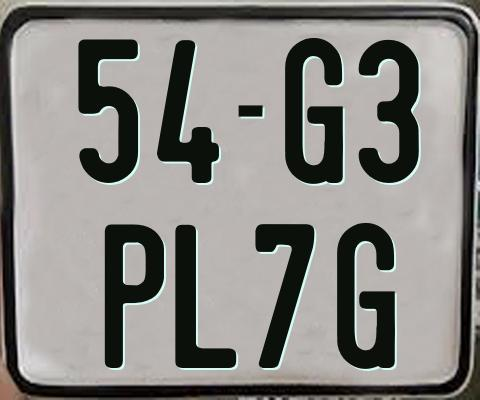3: (359, 40, 422, 184)
4: (155, 40, 218, 189)
5: (77, 38, 140, 186)
7: (254, 221, 316, 367)
G: (282, 38, 344, 190), (336, 221, 400, 368)
L: (175, 223, 241, 368)
P: (105, 224, 167, 374)
